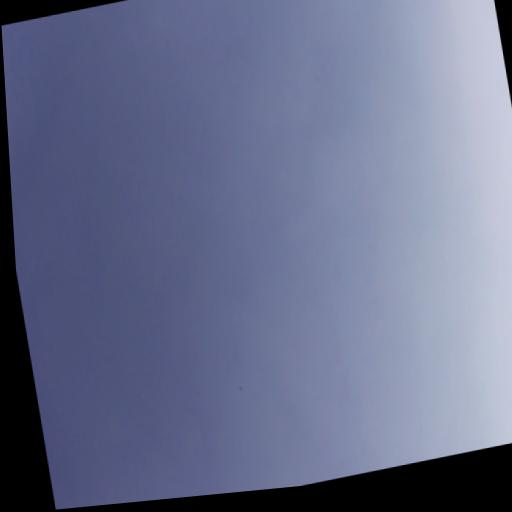drones: (233, 380, 249, 399)
